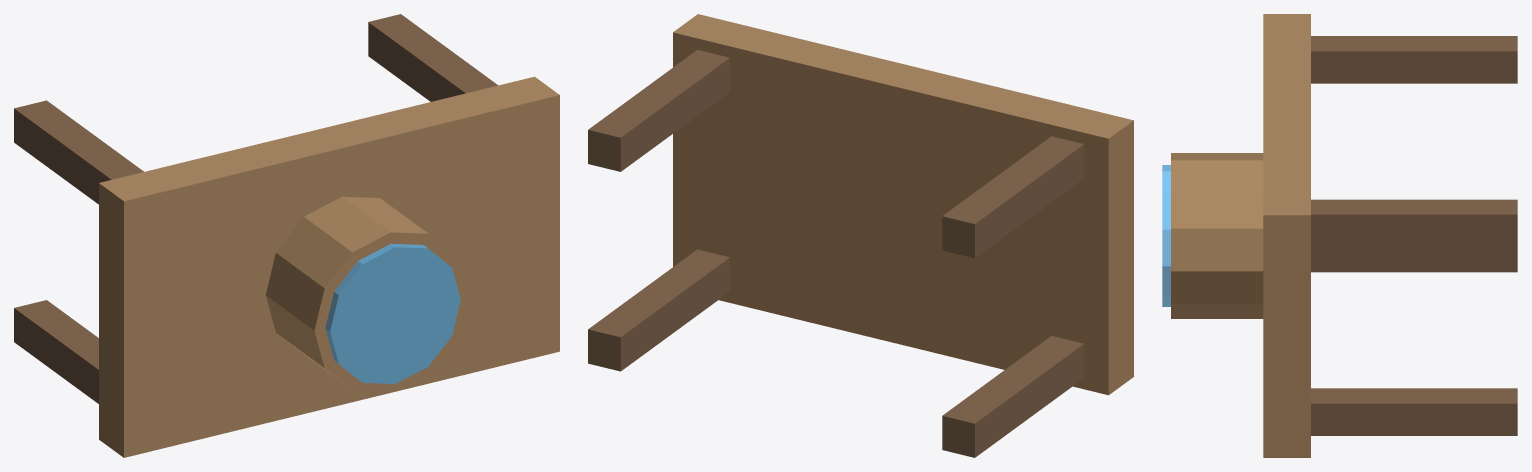
The model's file is 10_armor_dye_station.glb.
3 renders of one model, left to right at view 1: azimuth 30°, elevation 25°; view 2: azimuth 150°, elevation 25°; view 3: azimuth 270°, elevation 25°, orthographic. The views are drawn at different scales.
Parts seen in each view (by area): view 1: table_top, dye_vat, dye_surface, leg_3, leg_4, leg_1; view 2: table_top, leg_1, leg_3, leg_2, leg_4; view 3: table_top, dye_vat, leg_2, leg_3, leg_4, leg_1, dye_surface.
Boxes of the visible parts, bbox=[...] form: table_top: bbox=[99, 76, 559, 457]; dye_vat: bbox=[265, 196, 466, 391]; dye_surface: bbox=[325, 243, 460, 383]; leg_3: bbox=[14, 100, 143, 204]; leg_4: bbox=[368, 14, 497, 101]; leg_1: bbox=[14, 300, 98, 403]; table_top: bbox=[673, 14, 1133, 395]; leg_1: bbox=[942, 336, 1084, 457]; leg_3: bbox=[942, 136, 1084, 258]; leg_2: bbox=[588, 249, 729, 371]; leg_4: bbox=[588, 50, 729, 171]; table_top: bbox=[1263, 14, 1310, 457]; dye_vat: bbox=[1171, 153, 1263, 318]; leg_2: bbox=[1311, 388, 1517, 435]; leg_3: bbox=[1311, 36, 1517, 83]; leg_4: bbox=[1311, 199, 1517, 246]; leg_1: bbox=[1311, 247, 1517, 272]; dye_surface: bbox=[1162, 165, 1170, 306].
Bounding box in the file's own units: 1.6 × 0.9 × 1.2.
